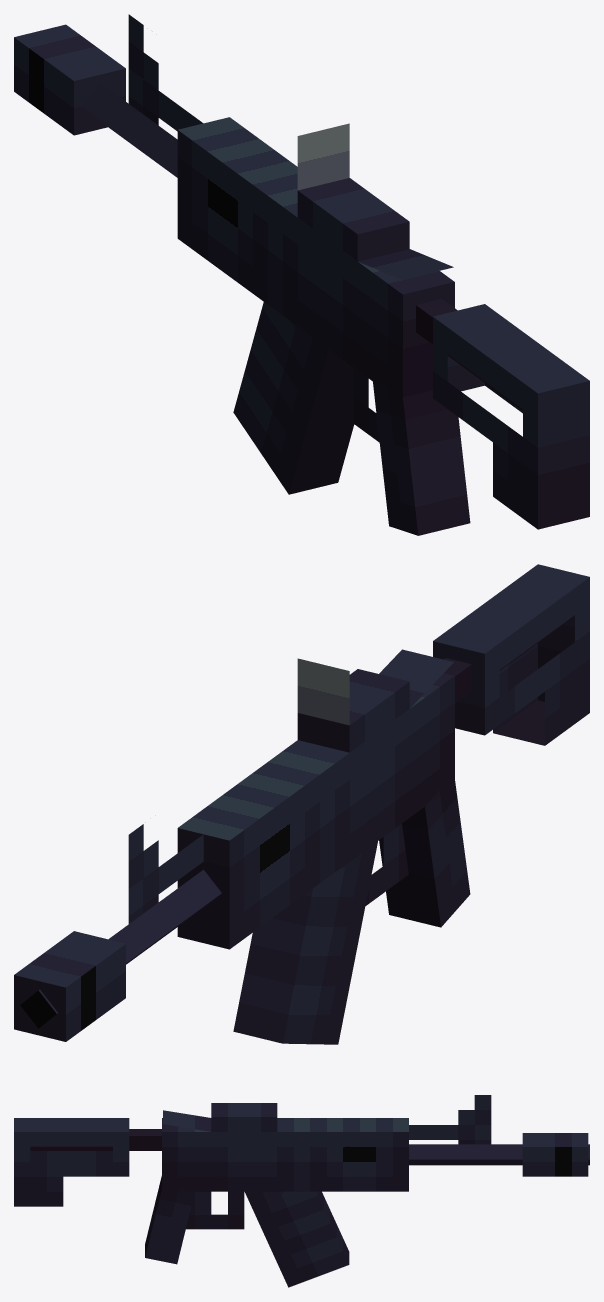
The picture shows the model from 3 angles, top to bottom: view 1: azimuth 30°, elevation 25°; view 2: azimuth 150°, elevation 25°; view 3: azimuth 270°, elevation 25°; orthographic projection. The views are drawn at different scales.
Parts seen in each view (by area): view 1: cube (×13); view 2: cube (×13); view 3: cube (×12).
Part boxes in pixels (x1,y1,x2,y2): cube (×13): [14, 14, 589, 535]; cube (×13): [14, 564, 589, 1044]; cube (×12): [14, 1095, 589, 1287].
Bounding box in the file's own units: 0.125 × 0.8417 × 2.19.
1 material, 1 textured.
